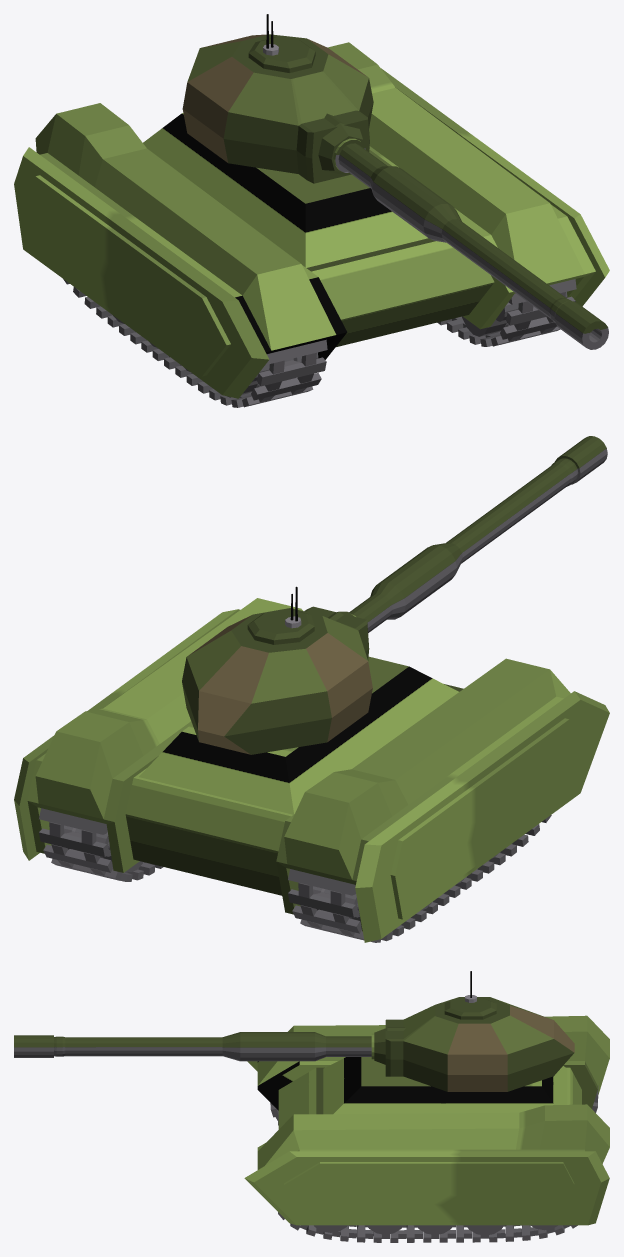
Rendered from Tank02.fbx.
3 views of the same model, one above another, from view 1: azimuth 30°, elevation 25°; view 2: azimuth 150°, elevation 25°; view 3: azimuth 270°, elevation 25° (orthographic). The views are drawn at different scales.
Visible parts, largest first — view 1: Cube.001, Cube, Cube.003, Cylinder, Cube.002, Cube.004; view 2: Cube.001, Cube, Cube.003, Cylinder, Cube.002, Cube.004; view 3: Cube.001, Cube.003, Cube, Cylinder, Cube.004.
Boxes of the visible parts, bbox=[...] form: Cube.001: bbox=[14, 42, 609, 398]; Cube: bbox=[143, 113, 494, 346]; Cube.003: bbox=[182, 14, 373, 183]; Cylinder: bbox=[333, 138, 608, 349]; Cube.002: bbox=[63, 279, 327, 407]; Cube.004: bbox=[437, 279, 576, 346]; Cube.001: bbox=[14, 598, 609, 942]; Cube: bbox=[125, 656, 463, 895]; Cube.003: bbox=[182, 586, 372, 754]; Cylinder: bbox=[349, 436, 607, 632]; Cube.002: bbox=[288, 815, 551, 942]; Cube.004: bbox=[39, 808, 163, 881]; Cube.001: bbox=[244, 1015, 609, 1225]; Cube.003: bbox=[374, 971, 574, 1091]; Cube: bbox=[278, 1057, 581, 1129]; Cylinder: bbox=[14, 1032, 374, 1061]; Cube.004: bbox=[278, 1212, 577, 1242].
Size of the model in its own units: 7.94 by 5.96 by 15.27.
